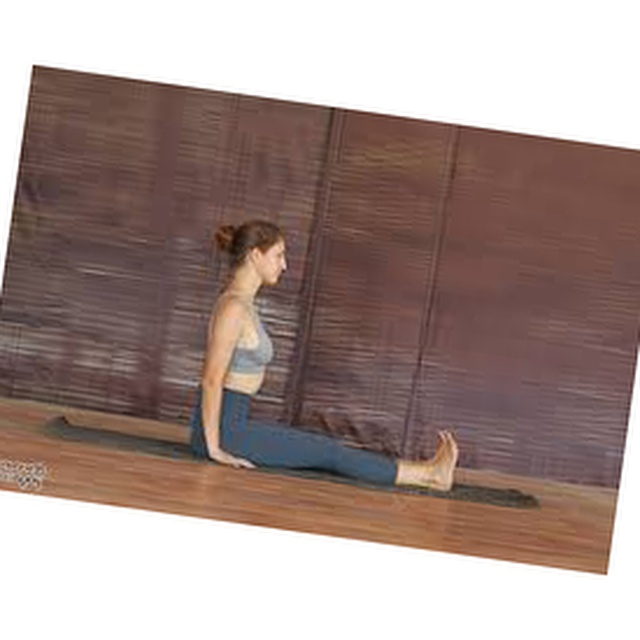Staff_Pose: (187, 219, 461, 493)
